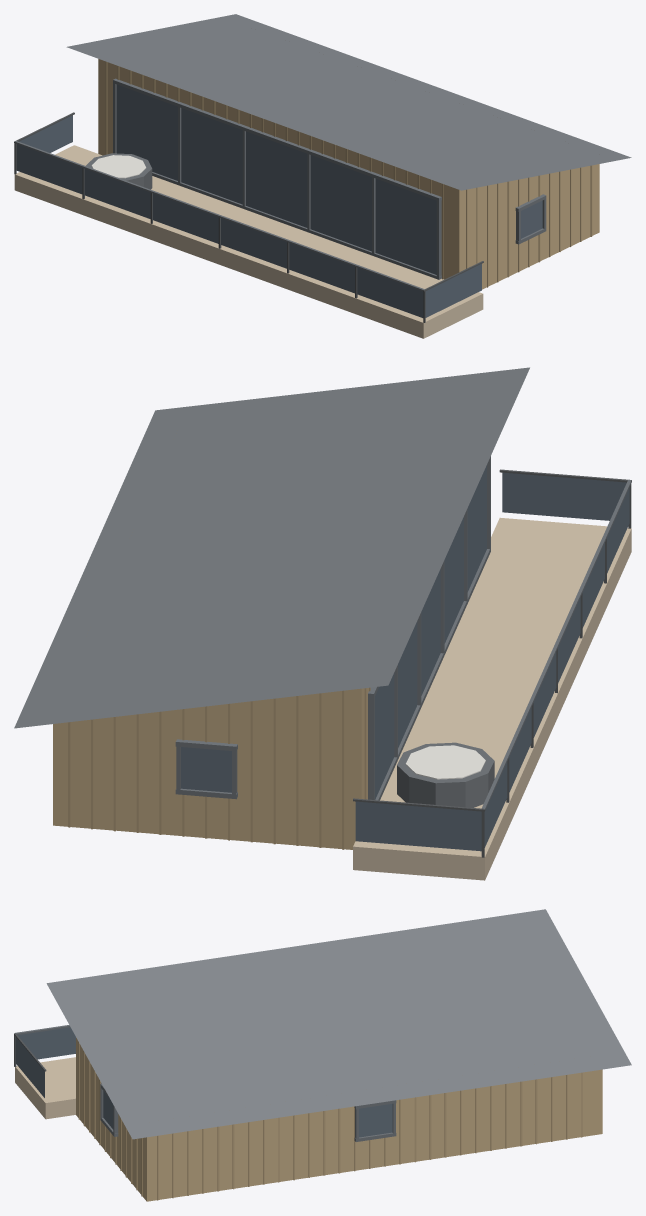
3 renders of one model, top to bottom at view 1: azimuth 30°, elevation 25°; view 2: azimuth 150°, elevation 25°; view 3: azimuth 270°, elevation 25°, orthographic. The views are drawn at different scales.
Parts seen in each view (by area): view 1: slate, door_wood, larch, slate_dk, window_glass_010, window_glass_013, window_glass_011, window_glass_012, window_glass_009, door_wood_p, window_glass_002, window_glass_006 (+10 smaller); view 2: slate, door_wood, larch, slate_dk, window_glass_007, door_wood_p, window_glass_008, band_dark, window_glass_016, string, window_glass_009, pipe (+10 smaller); view 3: slate, door_wood, door_wood_p, larch, window_glass_006, slate_dk, window_glass_015, window_glass_008.
Part boxes in pixels (<box>): slate: <box>66,14,631,190</box>; door_wood: <box>98,59,599,289</box>; larch: <box>14,145,483,338</box>; slate_dk: <box>14,78,546,291</box>; window_glass_010: <box>181,108,242,204</box>; window_glass_013: <box>375,178,436,274</box>; window_glass_011: <box>246,131,307,227</box>; window_glass_012: <box>310,155,371,251</box>; window_glass_009: <box>116,84,177,180</box>; door_wood_p: <box>105,61,592,287</box>; window_glass_002: <box>84,169,150,218</box>; window_glass_006: <box>357,268,423,317</box>; slate: <box>14,367,529,728</box>; door_wood: <box>53,688,368,849</box>; larch: <box>353,517,631,880</box>; slate_dk: <box>175,456,631,809</box>; window_glass_007: <box>355,801,481,851</box>; door_wood_p: <box>68,687,370,849</box>; window_glass_008: <box>502,472,626,520</box>; band_dark: <box>397,742,494,807</box>; window_glass_016: <box>181,747,231,792</box>; string: <box>405,745,485,779</box>; window_glass_009: <box>375,673,394,799</box>; pipe: <box>353,469,631,857</box>; slate: <box>46,909,631,1139</box>; door_wood: <box>76,1037,602,1201</box>; door_wood_p: <box>78,1042,582,1200</box>; larch: <box>15,1057,75,1119</box>; window_glass_006: <box>18,1027,75,1059</box>; slate_dk: <box>15,1025,396,1141</box>; window_glass_015: <box>359,1103,392,1137</box>; window_glass_008: <box>15,1037,44,1097</box>.
Bounding box in the file's own units: 13.83 × 3.88 × 17.32.
